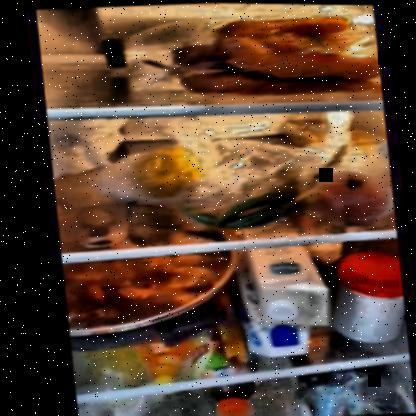broccoli: (292, 367, 409, 415)
carrot: (168, 10, 380, 99)
green_chillies: (182, 188, 299, 227)
lemon: (139, 144, 205, 196)
milk: (234, 246, 328, 357)
tomato: (312, 171, 387, 221)
